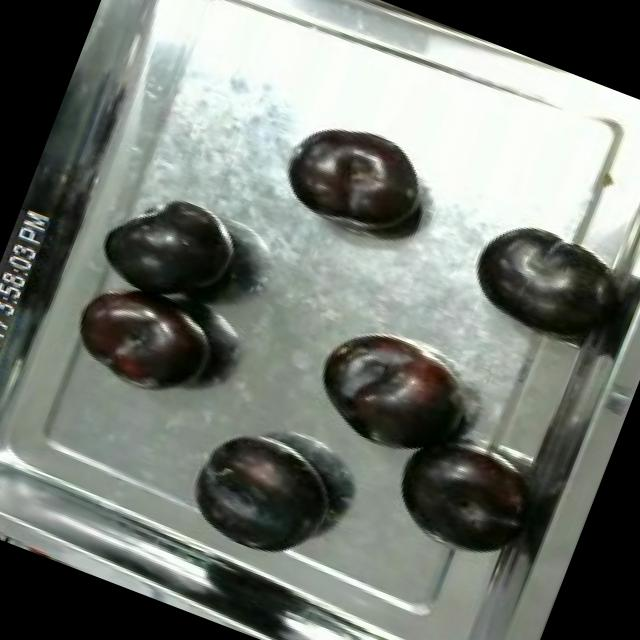Fruit: (300, 312, 486, 476), (173, 414, 349, 574), (270, 104, 447, 254), (458, 205, 628, 358), (56, 268, 230, 417), (82, 176, 252, 324), (376, 419, 542, 570)
